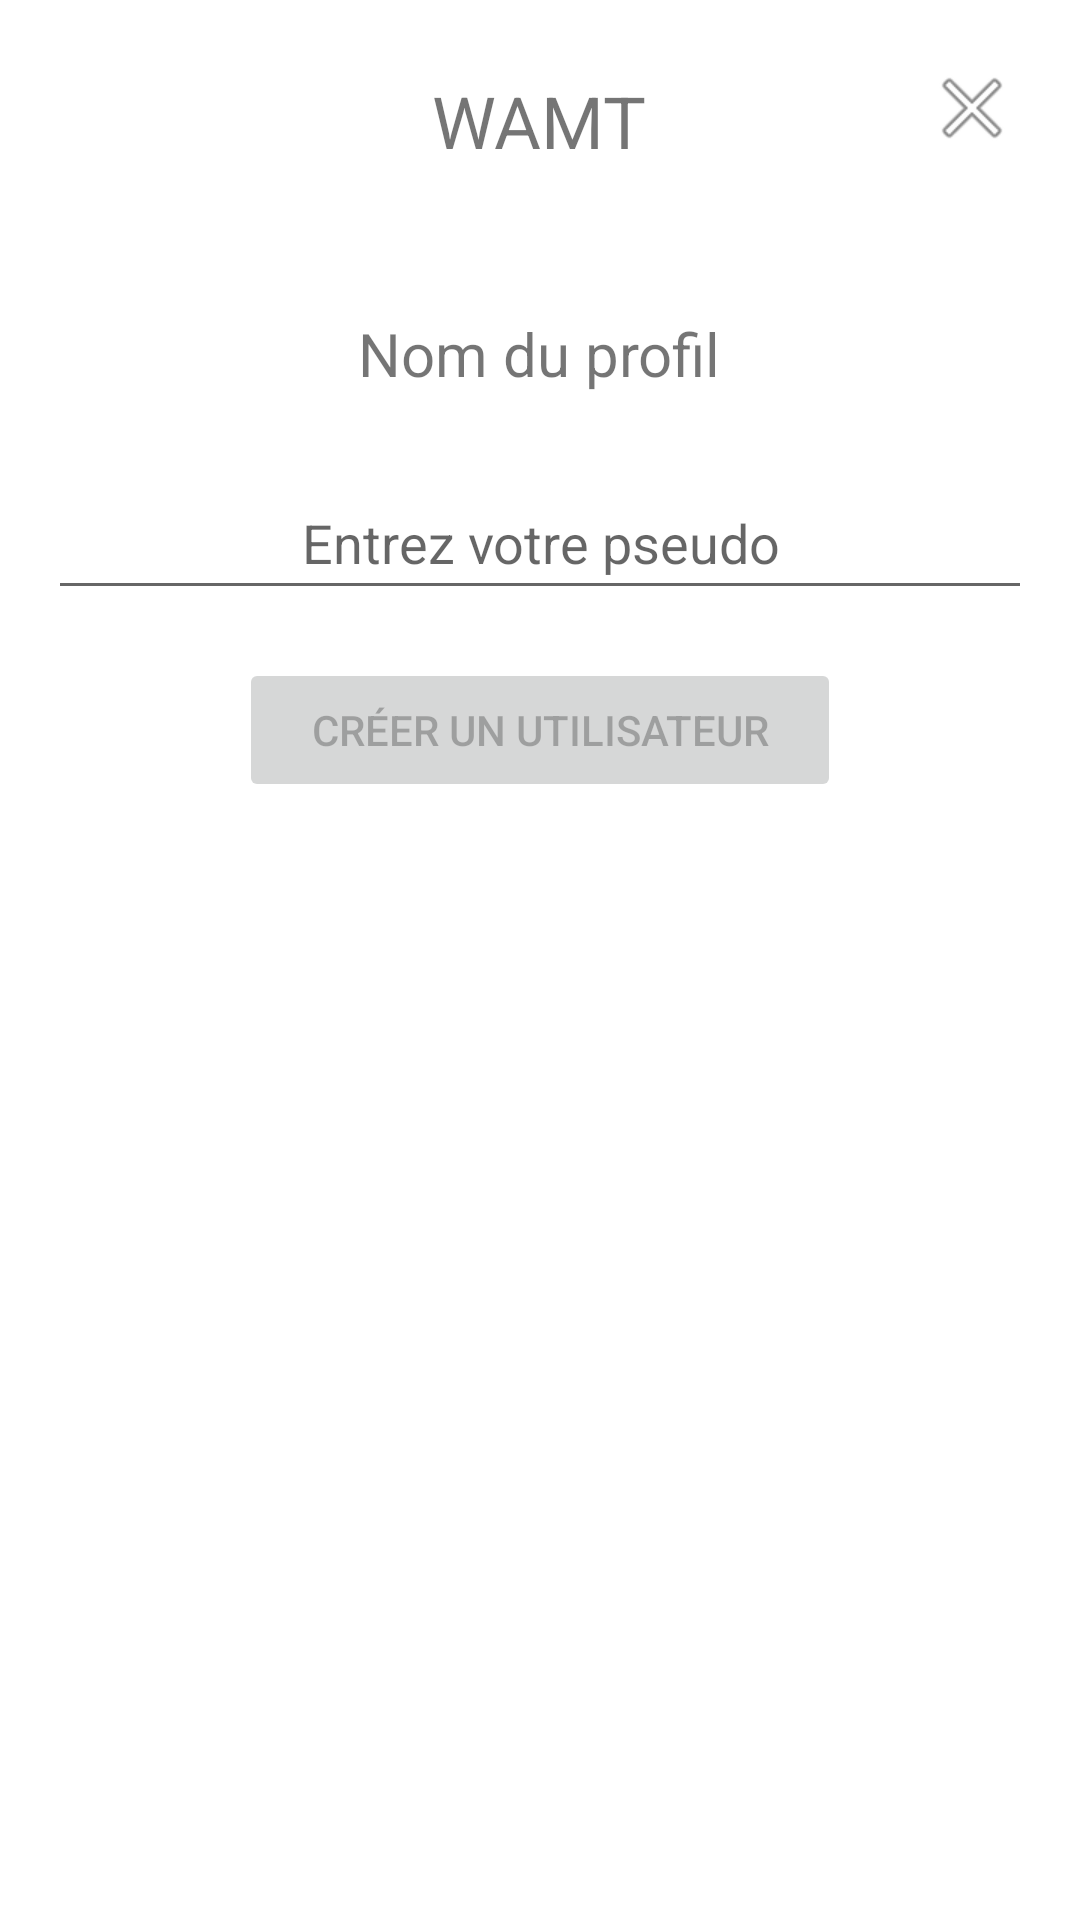

Icon click points for this 1080px x 1920px phone screenshot, format point (x, y):
Fermer: point (972, 108)
